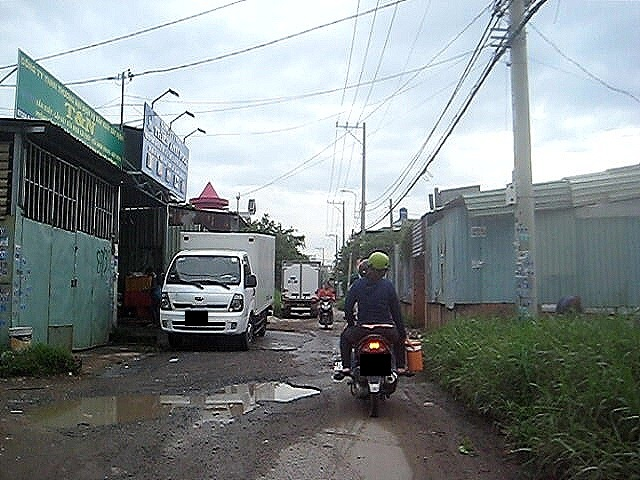hole: (11, 387, 195, 437), (198, 374, 325, 424), (268, 325, 311, 334)
